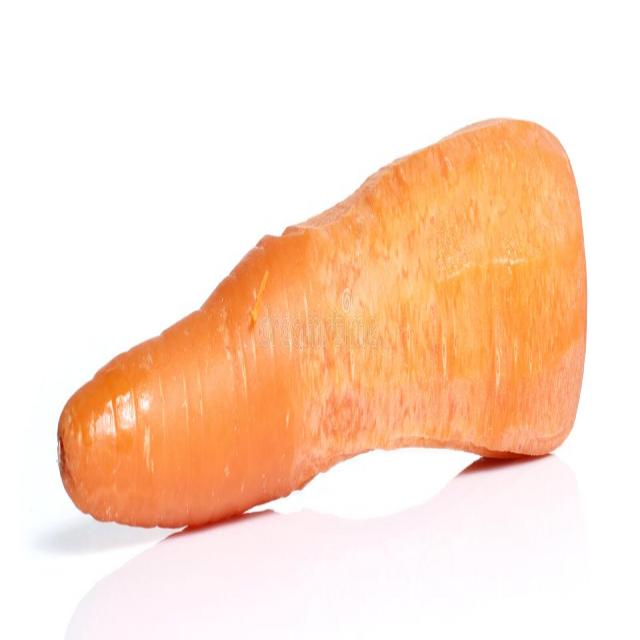Carrot: (59, 126, 590, 530)
